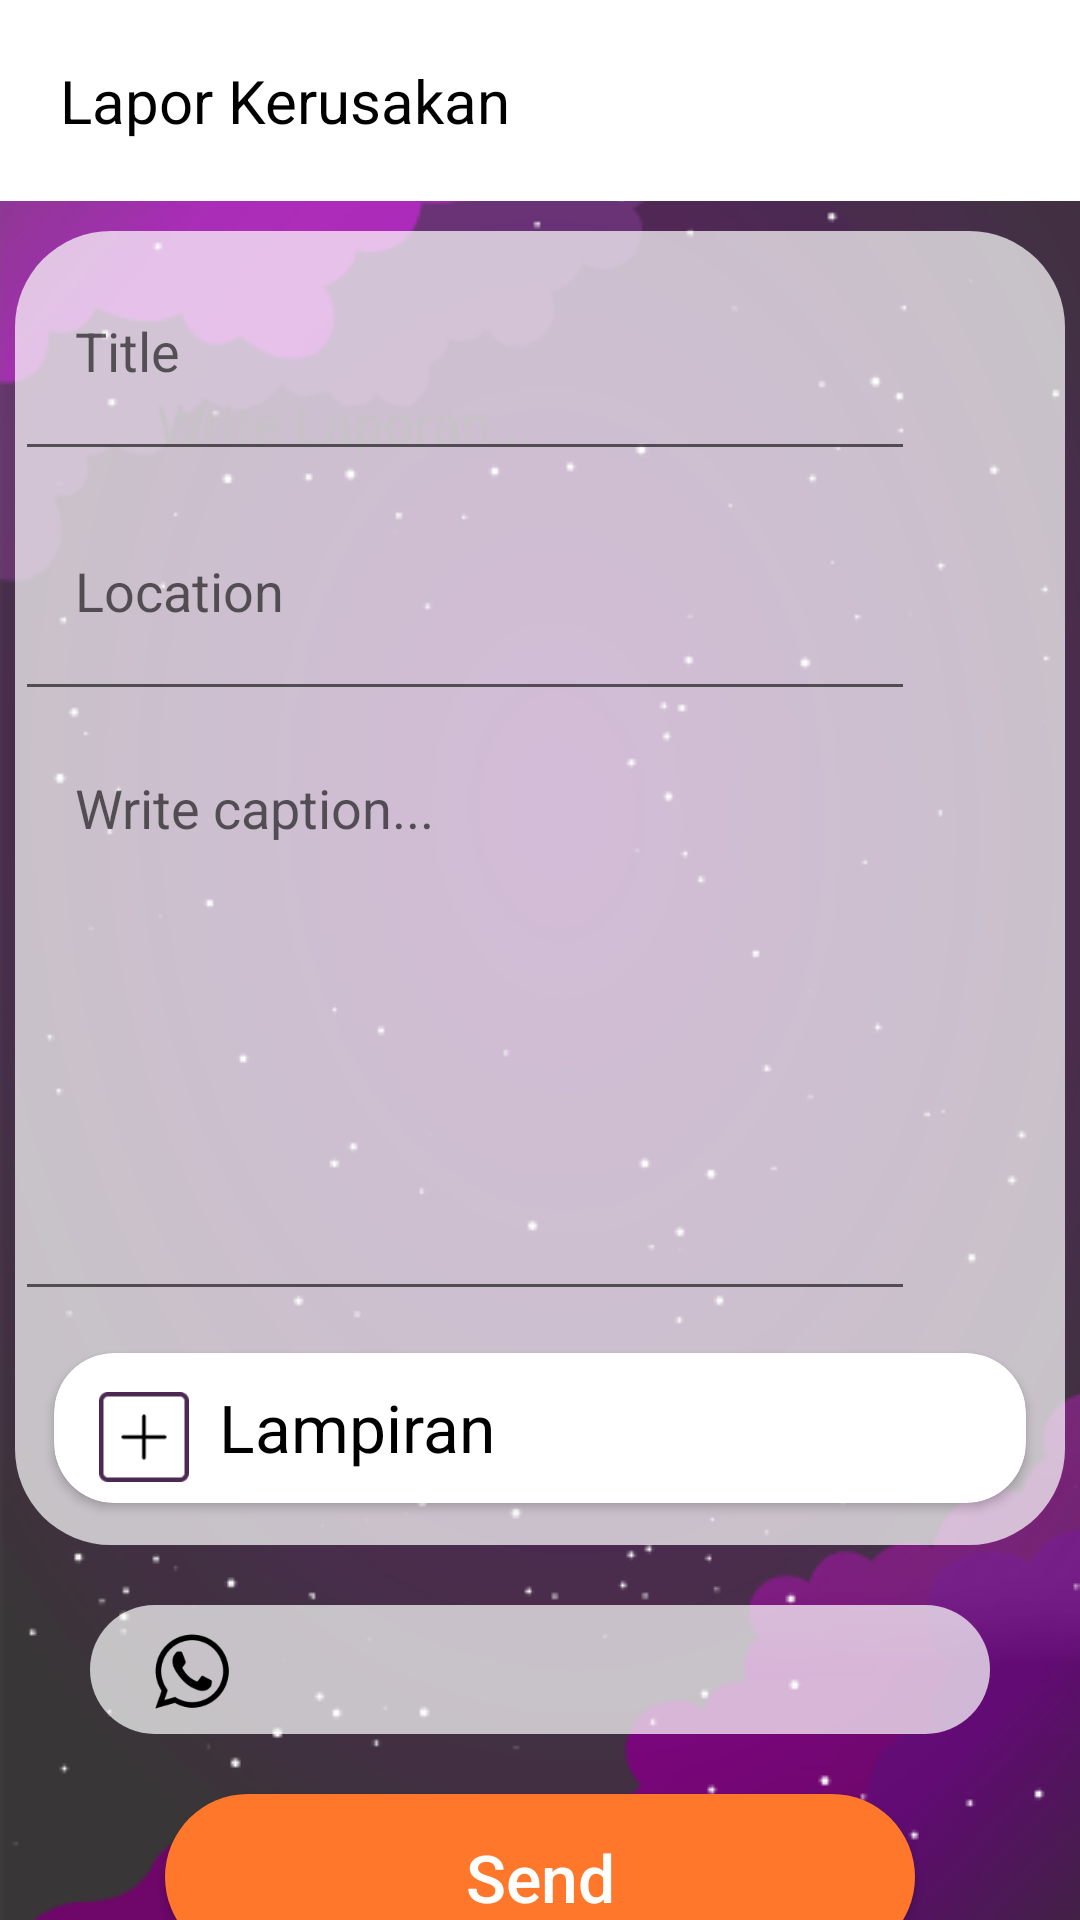

Named icons in this screenshot (1080×1920) and their centers, [x,y]:
add: [144,1437]
